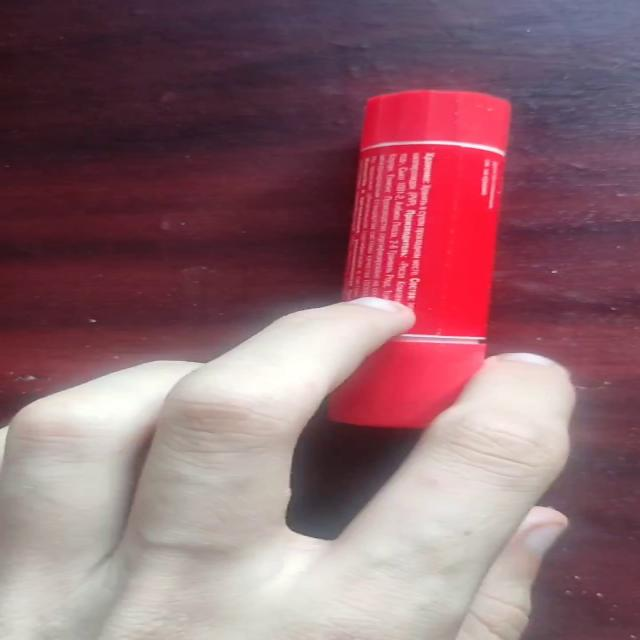glue: (284, 88, 512, 539)
